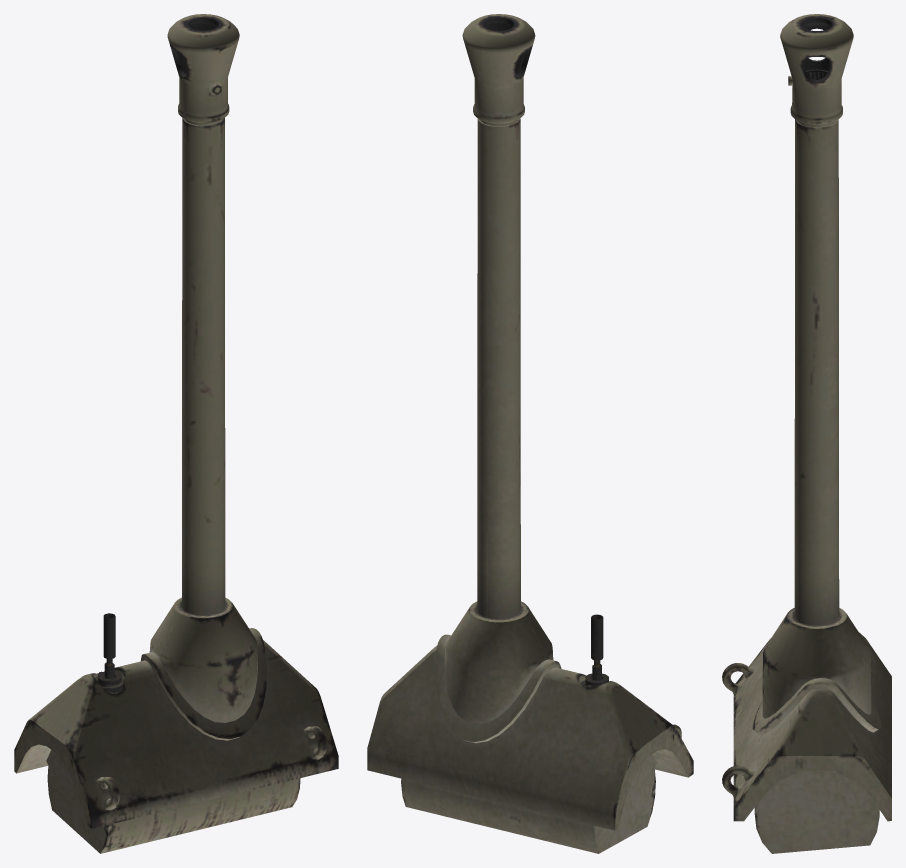
Rendered from Gun_04.glb.
The picture shows the model from 3 angles, left to right: view 1: azimuth 30°, elevation 25°; view 2: azimuth 150°, elevation 25°; view 3: azimuth 270°, elevation 25°; orthographic projection.
Parts seen in each view (by area): view 1: set_0_group_0; view 2: set_0_group_0; view 3: set_0_group_0.
Boxes of the visible parts, bbox=[...] form: set_0_group_0: bbox=[14, 14, 338, 853]; set_0_group_0: bbox=[367, 14, 693, 853]; set_0_group_0: bbox=[722, 14, 891, 853].
Bounding box in the file's own units: 0.6962 × 2.11 × 0.4082.
Materials: 1 (1 with a texture image).
